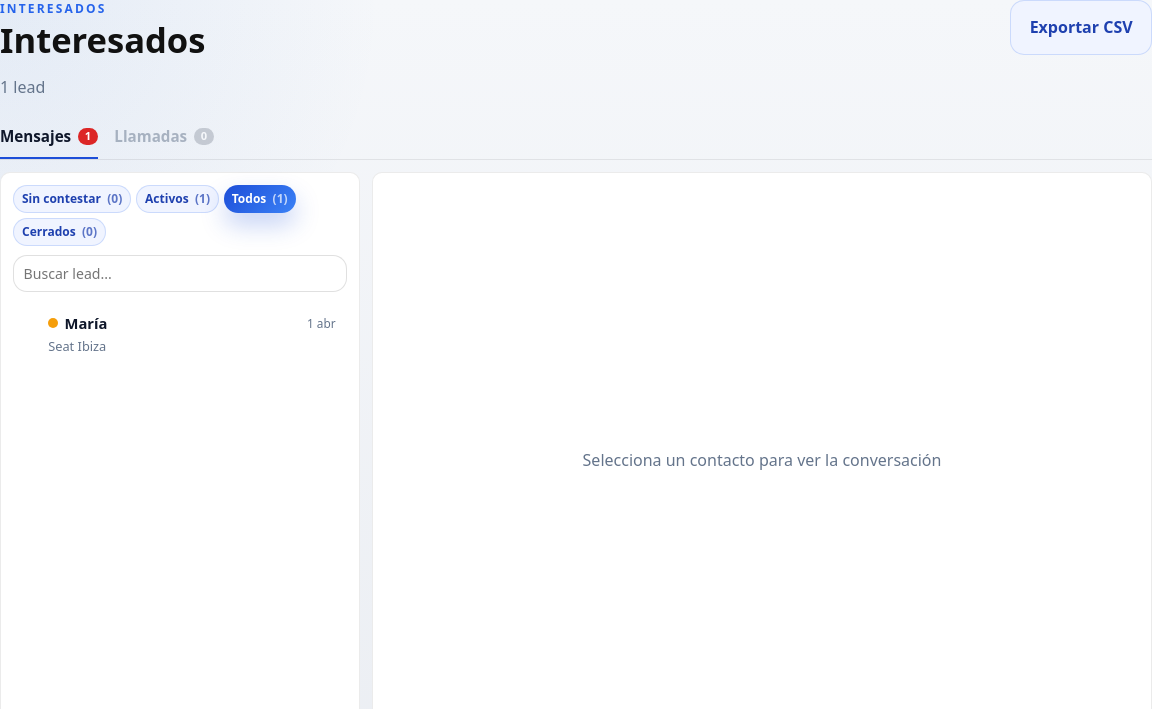
Test case: LeadsList — notas › opens notes panel on Notas click (after selecting lead)
Click the text "María" at (78, 323), box [48,312,107,334]
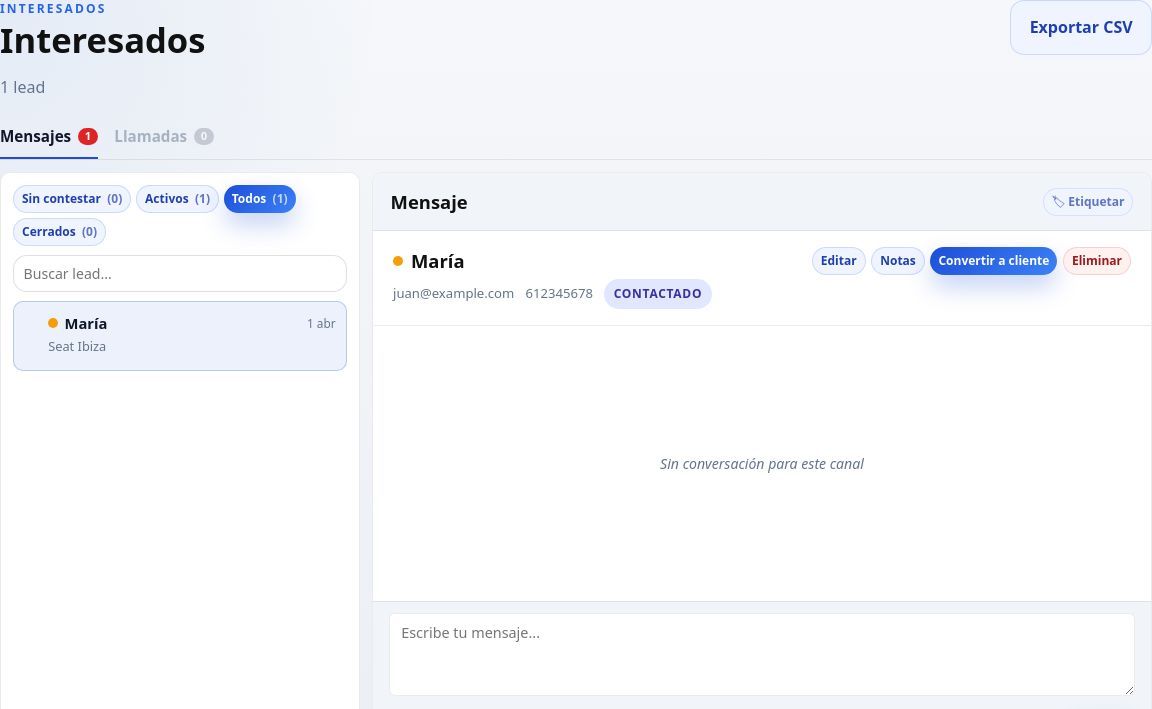
Click the button "Notas" at (898, 261), box [871,247,925,275]
(page scrolled)
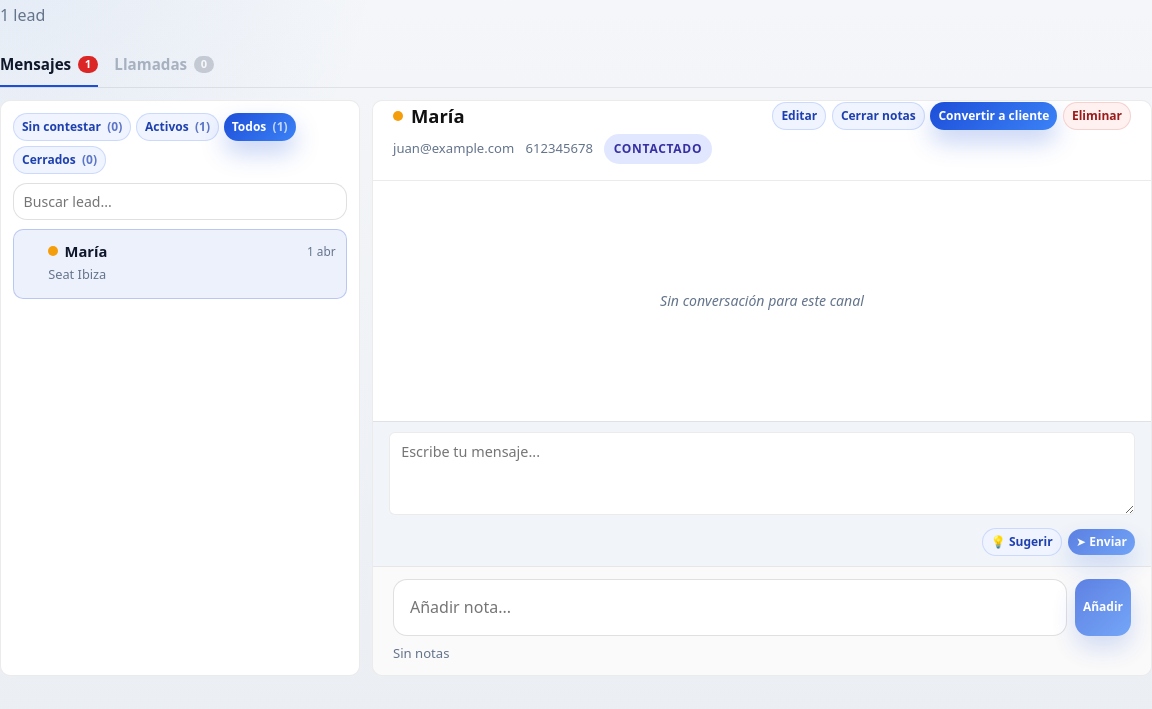
Expected: the field with placeholder "Añadir nota..." is shown, [393,579,1067,636]
